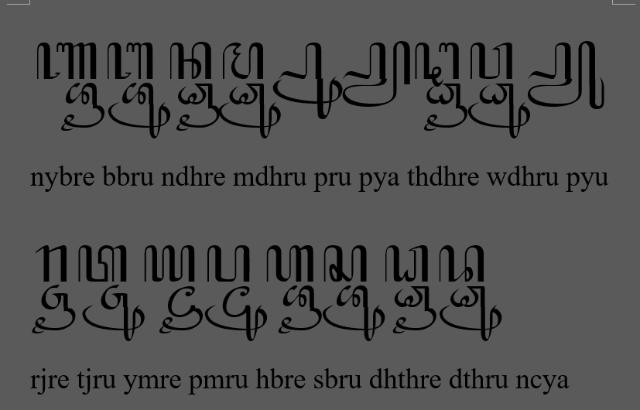_bre: (277, 284, 323, 334), (59, 82, 104, 132)
_bru: (108, 82, 172, 140), (323, 284, 385, 342)
_dhre: (174, 82, 220, 132), (423, 83, 469, 133)
_dhru: (218, 82, 282, 140), (467, 82, 531, 140)
_jre: (32, 284, 76, 334)
_jru: (82, 284, 146, 342)
_mre: (158, 285, 204, 335)
_mru: (205, 285, 269, 343)
_pru: (272, 41, 344, 121)
_py: (341, 40, 411, 110)
_pyu: (526, 40, 606, 110)
_thre: (392, 285, 438, 335)
_thru: (439, 284, 503, 342)
b: (106, 41, 154, 81)
d: (438, 243, 486, 283)
dh: (384, 244, 430, 284)
h: (266, 244, 314, 284)
m: (222, 40, 264, 82)
n: (168, 42, 214, 82)
ny1: (36, 41, 98, 81)
p: (206, 244, 252, 284)
r: (33, 244, 69, 284)
s: (321, 244, 369, 284)
t: (77, 244, 129, 284)
th: (414, 40, 461, 88)
w: (470, 39, 514, 80)
y: (142, 244, 194, 282)
